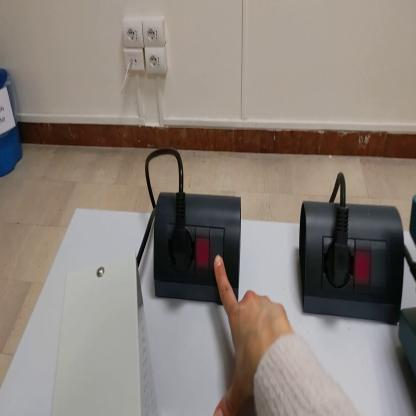hand: (209, 253, 296, 416)
power supply: (45, 259, 159, 416)
socket: (300, 198, 405, 326), (153, 193, 242, 307)
